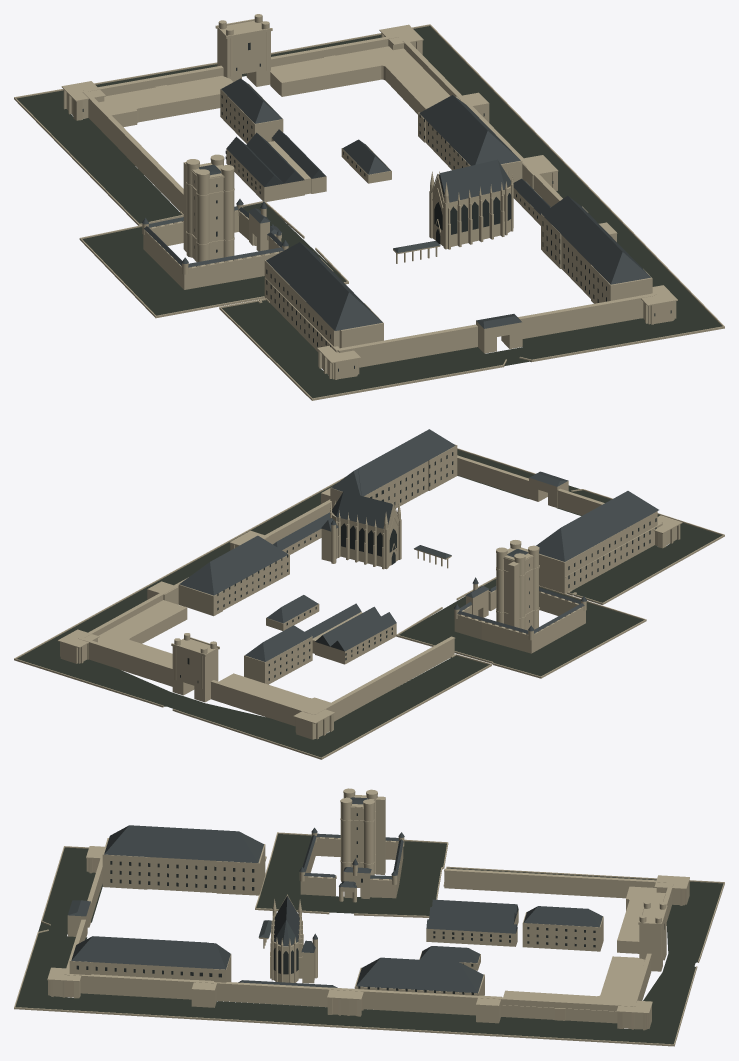
Rendered from chateau-de-vincennes-far.glb.
The picture shows the model from 3 angles, top to bottom: view 1: azimuth 30°, elevation 25°; view 2: azimuth 150°, elevation 25°; view 3: azimuth 270°, elevation 25°; orthographic projection. The views are drawn at different scales.
Parts seen in each view (by area): view 1: chateau-de-vincennes-0-stone, chateau-de-vincennes-0-moat, chateau-de-vincennes-0-roof, chateau-de-vincennes-0-glass; view 2: chateau-de-vincennes-0-stone, chateau-de-vincennes-0-moat, chateau-de-vincennes-0-roof, chateau-de-vincennes-0-glass; view 3: chateau-de-vincennes-0-stone, chateau-de-vincennes-0-moat, chateau-de-vincennes-0-roof, chateau-de-vincennes-0-glass.
Boxes of the visible parts, x1=… form: chateau-de-vincennes-0-stone: x1=14, y1=14, x2=724, y2=400; chateau-de-vincennes-0-moat: x1=16, y1=26, x2=722, y2=398; chateau-de-vincennes-0-roof: x1=142, y1=78, x2=650, y2=330; chateau-de-vincennes-0-glass: x1=82, y1=42, x2=671, y2=371; chateau-de-vincennes-0-stone: x1=14, y1=444, x2=724, y2=759; chateau-de-vincennes-0-moat: x1=17, y1=450, x2=721, y2=757; chateau-de-vincennes-0-roof: x1=179, y1=429, x2=658, y2=661; chateau-de-vincennes-0-glass: x1=180, y1=452, x2=656, y2=682; chateau-de-vincennes-0-stone: x1=14, y1=788, x2=724, y2=1046; chateau-de-vincennes-0-moat: x1=15, y1=834, x2=723, y2=1044; chateau-de-vincennes-0-roof: x1=68, y1=797, x2=602, y2=993; chateau-de-vincennes-0-glass: x1=76, y1=813, x2=664, y2=994.
Size of the model in its own units: 295 by 52.3 by 418.
